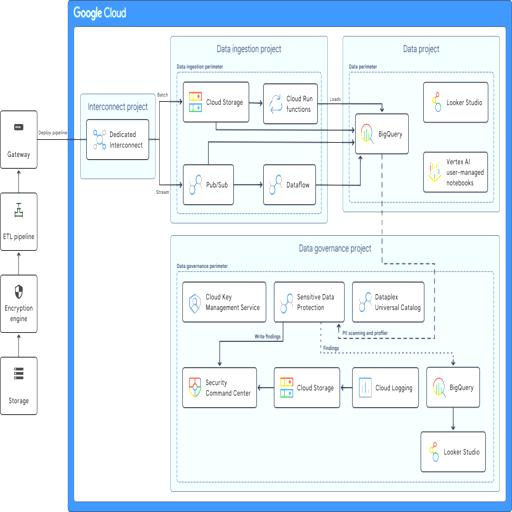actor: (0, 112, 37, 168), (0, 193, 37, 249), (0, 275, 37, 331), (0, 357, 37, 413)
compute: (423, 137, 488, 207), (420, 432, 486, 470), (423, 84, 488, 122), (262, 164, 317, 203), (262, 84, 317, 122)
data_flow: (380, 133, 383, 284), (158, 103, 162, 183), (234, 141, 318, 144), (266, 348, 390, 350), (354, 326, 408, 330), (280, 102, 354, 104), (234, 338, 298, 340), (248, 128, 305, 130), (38, 138, 74, 141), (326, 322, 330, 349), (358, 155, 361, 184), (222, 182, 246, 185), (306, 182, 329, 185), (17, 346, 20, 368), (17, 264, 20, 286), (17, 182, 20, 204), (234, 102, 262, 104), (339, 386, 366, 388), (452, 406, 454, 432), (327, 168, 330, 185), (154, 182, 166, 185), (256, 386, 274, 388), (144, 134, 154, 137), (154, 102, 166, 104), (408, 322, 410, 334)
database_storage: (274, 368, 339, 406), (184, 84, 248, 122), (354, 114, 409, 152), (426, 368, 480, 406)
network_security: (182, 282, 266, 322), (352, 282, 424, 322), (274, 282, 344, 322), (183, 368, 256, 406), (352, 368, 418, 406), (88, 116, 150, 155), (183, 164, 234, 203), (249, 334, 252, 344)
trust_boundary: (68, 2, 510, 510), (170, 234, 500, 492), (176, 262, 494, 492), (170, 36, 328, 223), (342, 35, 500, 212), (174, 62, 324, 222), (346, 62, 496, 212), (81, 93, 156, 178)
